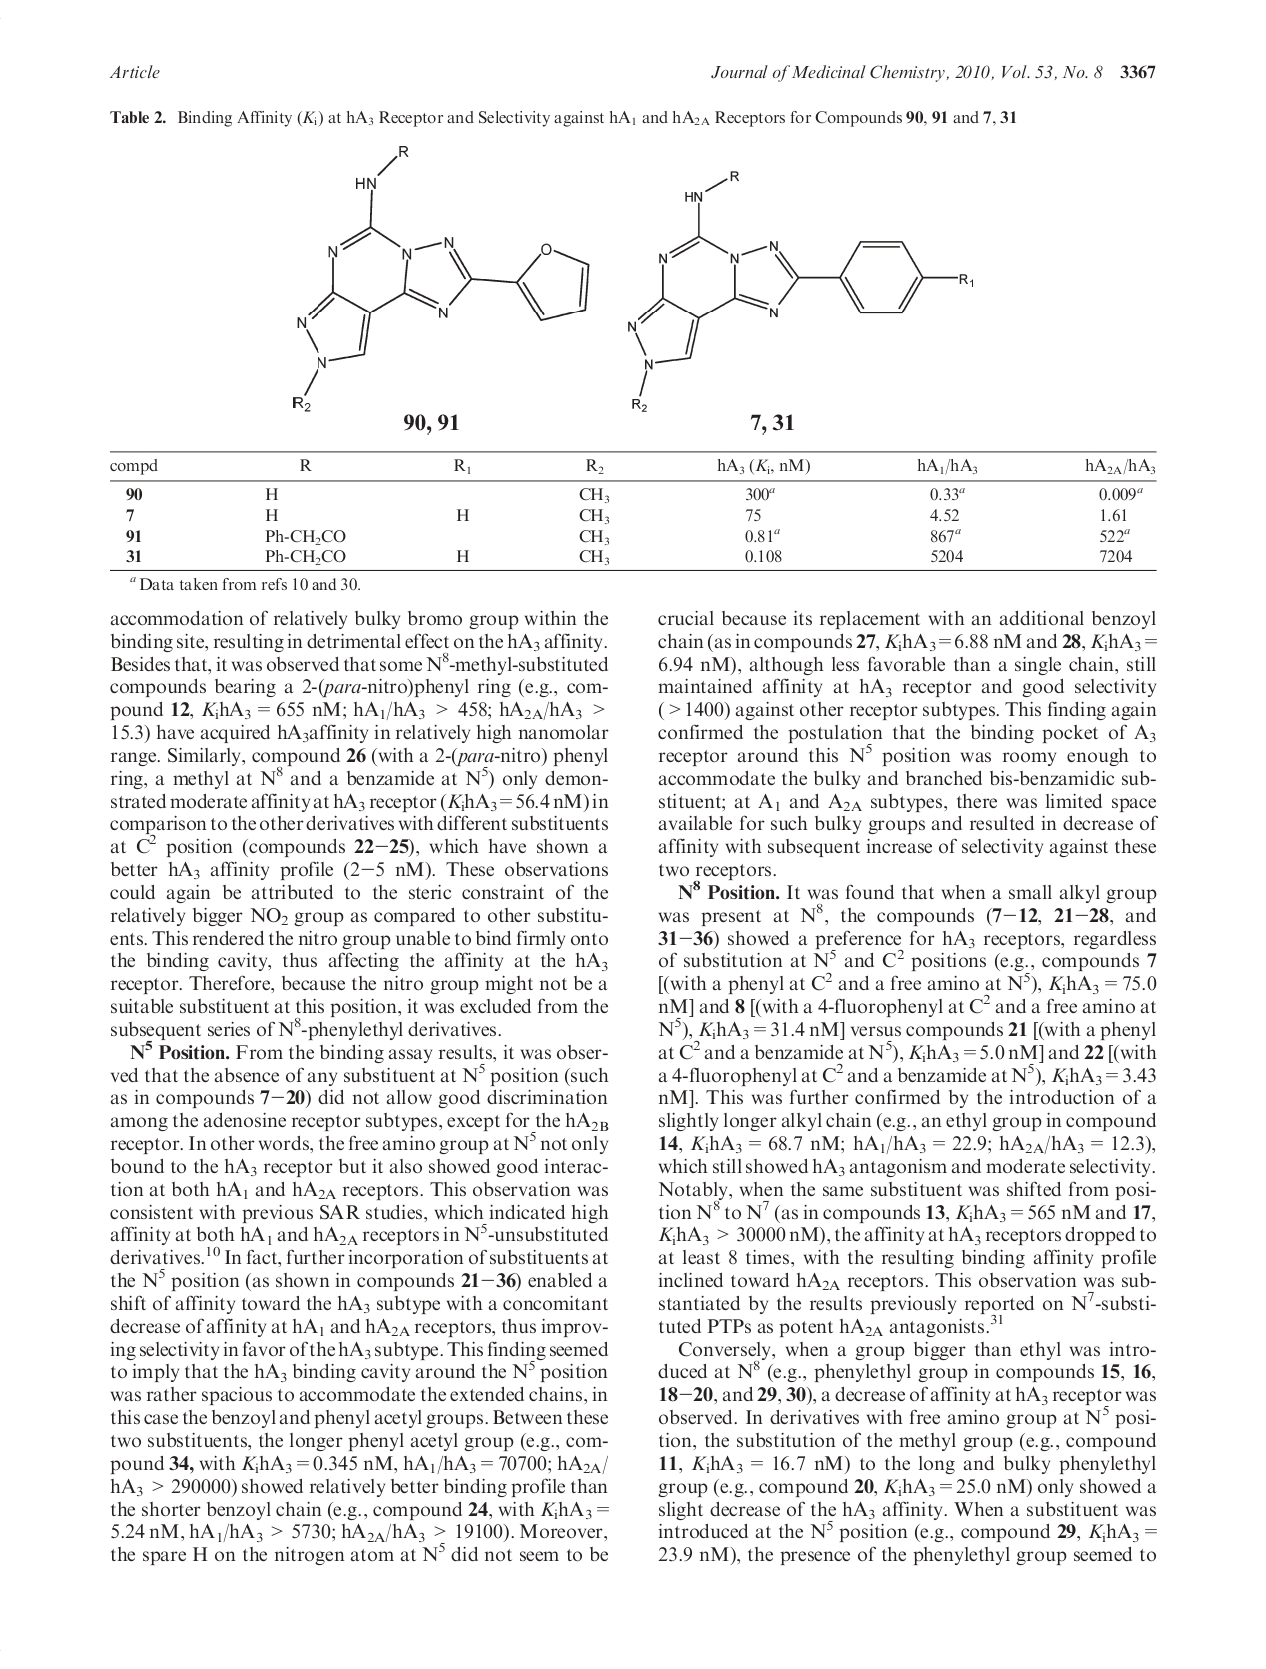exist_molecular: (616, 165, 979, 414), (279, 142, 593, 412)
